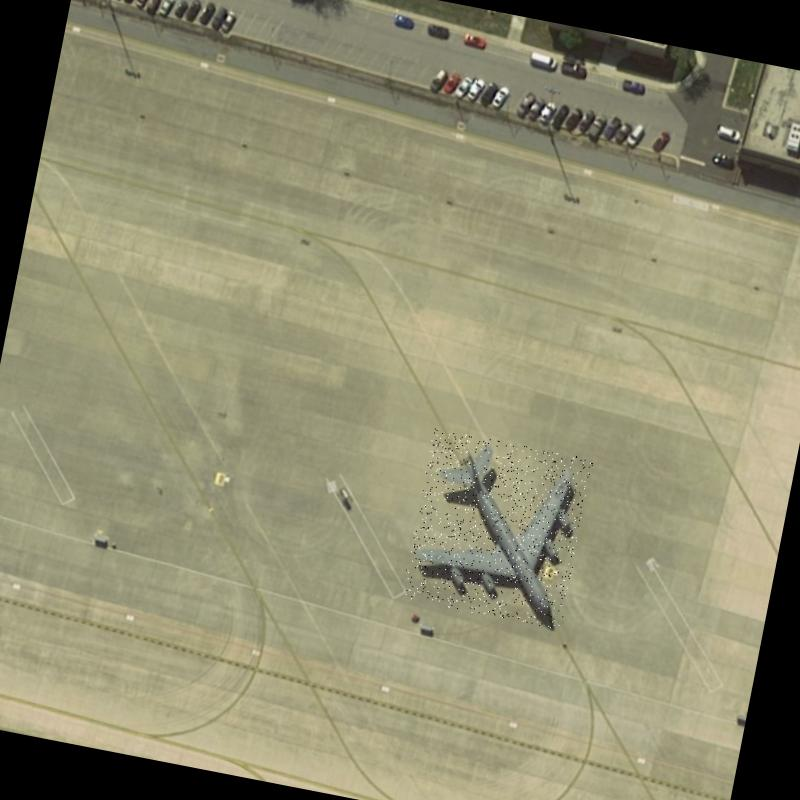A14: (400, 428, 593, 630)
